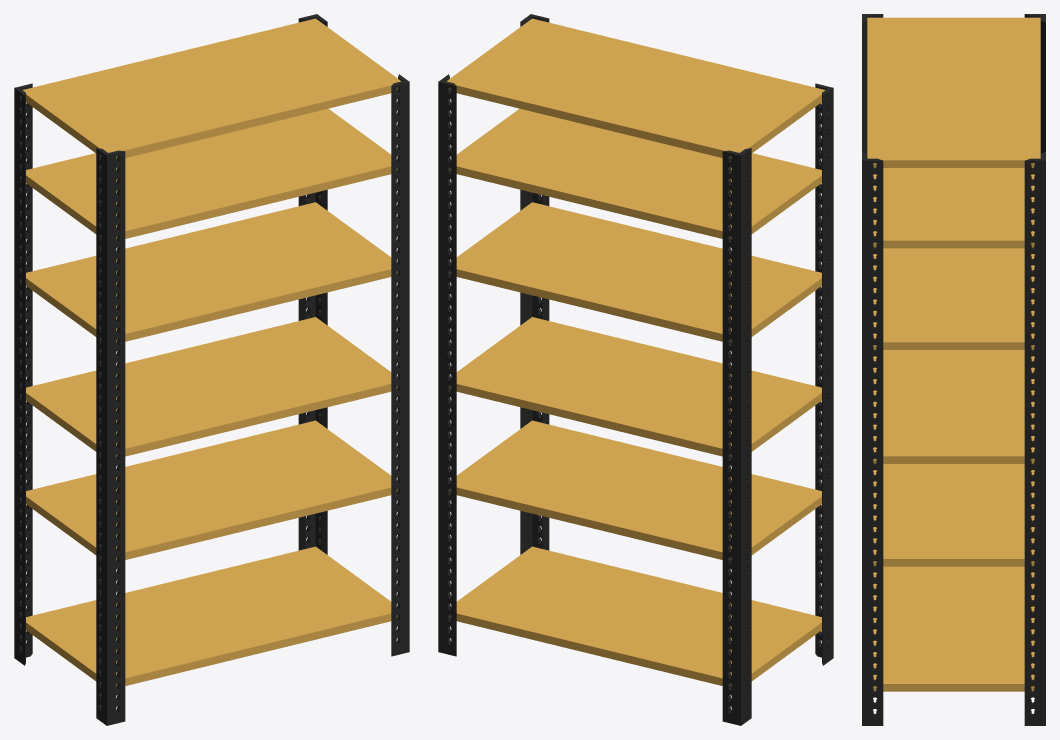
The model's file is Shelf.fbx.
3 views of the same model, side by side, from view 1: azimuth 30°, elevation 25°; view 2: azimuth 150°, elevation 25°; view 3: azimuth 270°, elevation 25° (orthographic).
Parts seen in each view (by area): view 1: Shelfs, Rails; view 2: Shelfs, Rails; view 3: Shelfs, Rails.
Boxes of the visible parts, left/top/right/bottom form: Shelfs: left=22, top=18, right=401, bottom=686; Rails: left=14, top=14, right=409, bottom=725; Shelfs: left=446, top=18, right=825, bottom=686; Rails: left=438, top=14, right=833, bottom=725; Shelfs: left=867, top=17, right=1040, bottom=691; Rails: left=862, top=14, right=1045, bottom=725.
Size of the model in its own units: 213 by 383 by 113.
